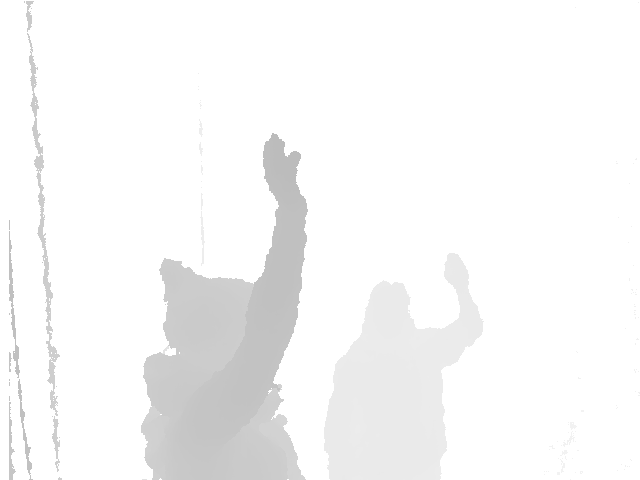hand: (260, 131, 309, 214), (443, 249, 470, 298)
head: (158, 256, 259, 372), (360, 279, 413, 338)
person: (134, 130, 314, 480), (324, 247, 484, 480)
